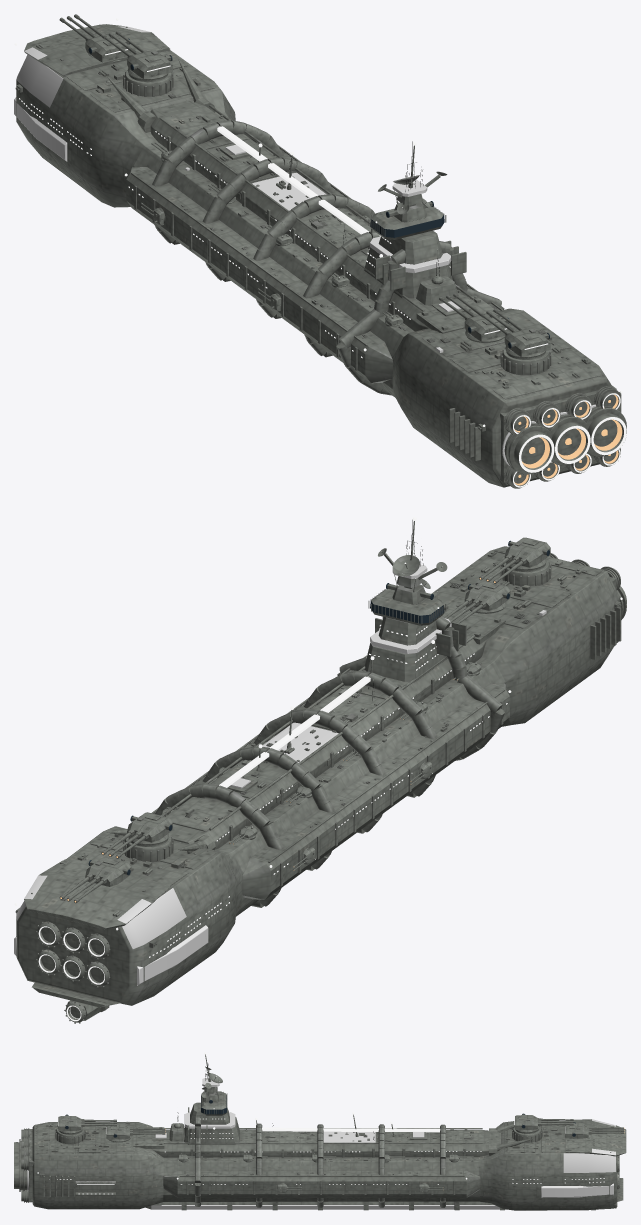
File: bastion_capital.glb
The picture shows the model from 3 angles, top to bottom: view 1: azimuth 30°, elevation 25°; view 2: azimuth 150°, elevation 25°; view 3: azimuth 270°, elevation 25°; orthographic projection. The views are drawn at different scales.
Visible parts, largest first — view 1: Hull, Species_Veyr_Kit, Species_Kharz_Kit, Species_Human_Kit, Turret_3, Turret_1, Turret_2, Turret_0, Rank9_Command_Array; view 2: Hull, Species_Veyr_Kit, Species_Kharz_Kit, Turret_3, Turret_1, Species_Human_Kit, Turret_2, Turret_0, Rank9_Command_Array; view 3: Hull, Species_Veyr_Kit, Rank9_Spinal_Lance, Species_Kharz_Kit, Turret_3, Turret_1, Turret_2, Turret_0, Species_Human_Kit, Rank9_Command_Array.
Boxes of the visible parts, box(x1,y1,x2,y2) form: Hull: box(14, 18, 626, 488); Species_Veyr_Kit: box(152, 120, 504, 395); Species_Kharz_Kit: box(107, 59, 503, 333); Species_Human_Kit: box(219, 142, 470, 316); Turret_3: box(479, 308, 550, 359); Turret_1: box(101, 31, 172, 81); Turret_2: box(439, 293, 510, 342); Turret_0: box(59, 14, 131, 62); Rank9_Command_Array: box(378, 169, 447, 205); Hull: box(14, 519, 626, 1007); Species_Veyr_Kit: box(155, 616, 504, 907); Species_Kharz_Kit: box(107, 605, 505, 851); Turret_3: box(479, 537, 550, 583); Turret_1: box(101, 812, 172, 858); Species_Human_Kit: box(227, 517, 470, 792); Turret_2: box(444, 580, 510, 623); Turret_0: box(59, 857, 131, 903); Rank9_Command_Array: box(378, 535, 447, 587); Hull: box(14, 1052, 626, 1210); Species_Veyr_Kit: box(195, 1117, 445, 1207); Rank9_Spinal_Lance: box(145, 1201, 617, 1210); Species_Kharz_Kit: box(133, 1123, 533, 1155); Turret_3: box(58, 1114, 116, 1134); Turret_1: box(514, 1113, 573, 1133); Turret_2: box(106, 1124, 165, 1142); Turret_0: box(565, 1122, 624, 1139); Species_Human_Kit: box(152, 1052, 427, 1141); Rank9_Command_Array: box(202, 1066, 222, 1092).
Size of the model in its own units: 113 by 168 by 600.
5 materials, 1 textured.
